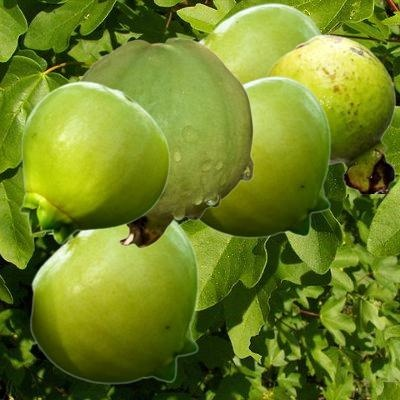guava: (79, 37, 253, 247), (29, 221, 198, 383), (19, 81, 169, 243), (199, 75, 330, 237), (266, 34, 395, 192), (198, 2, 322, 82)
